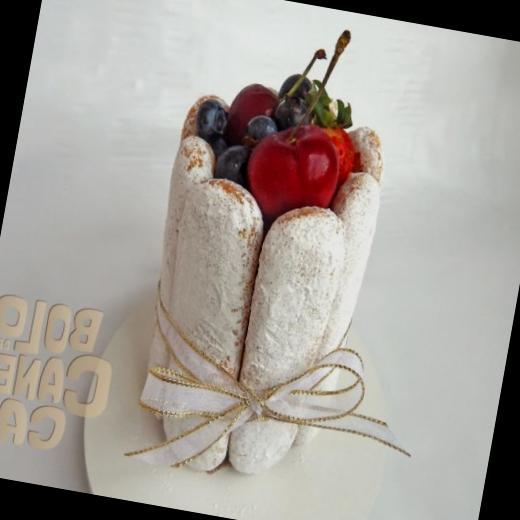Orange: (212, 141, 254, 187), (274, 94, 317, 134), (195, 98, 229, 138), (244, 114, 278, 146), (280, 70, 315, 100), (208, 136, 230, 158)
